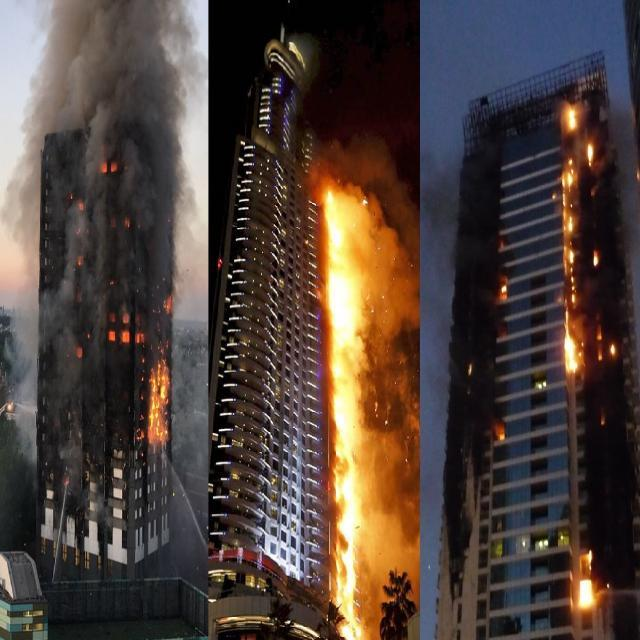Fire: (318, 171, 396, 619), (562, 84, 592, 388), (142, 358, 178, 460), (573, 563, 599, 616)
